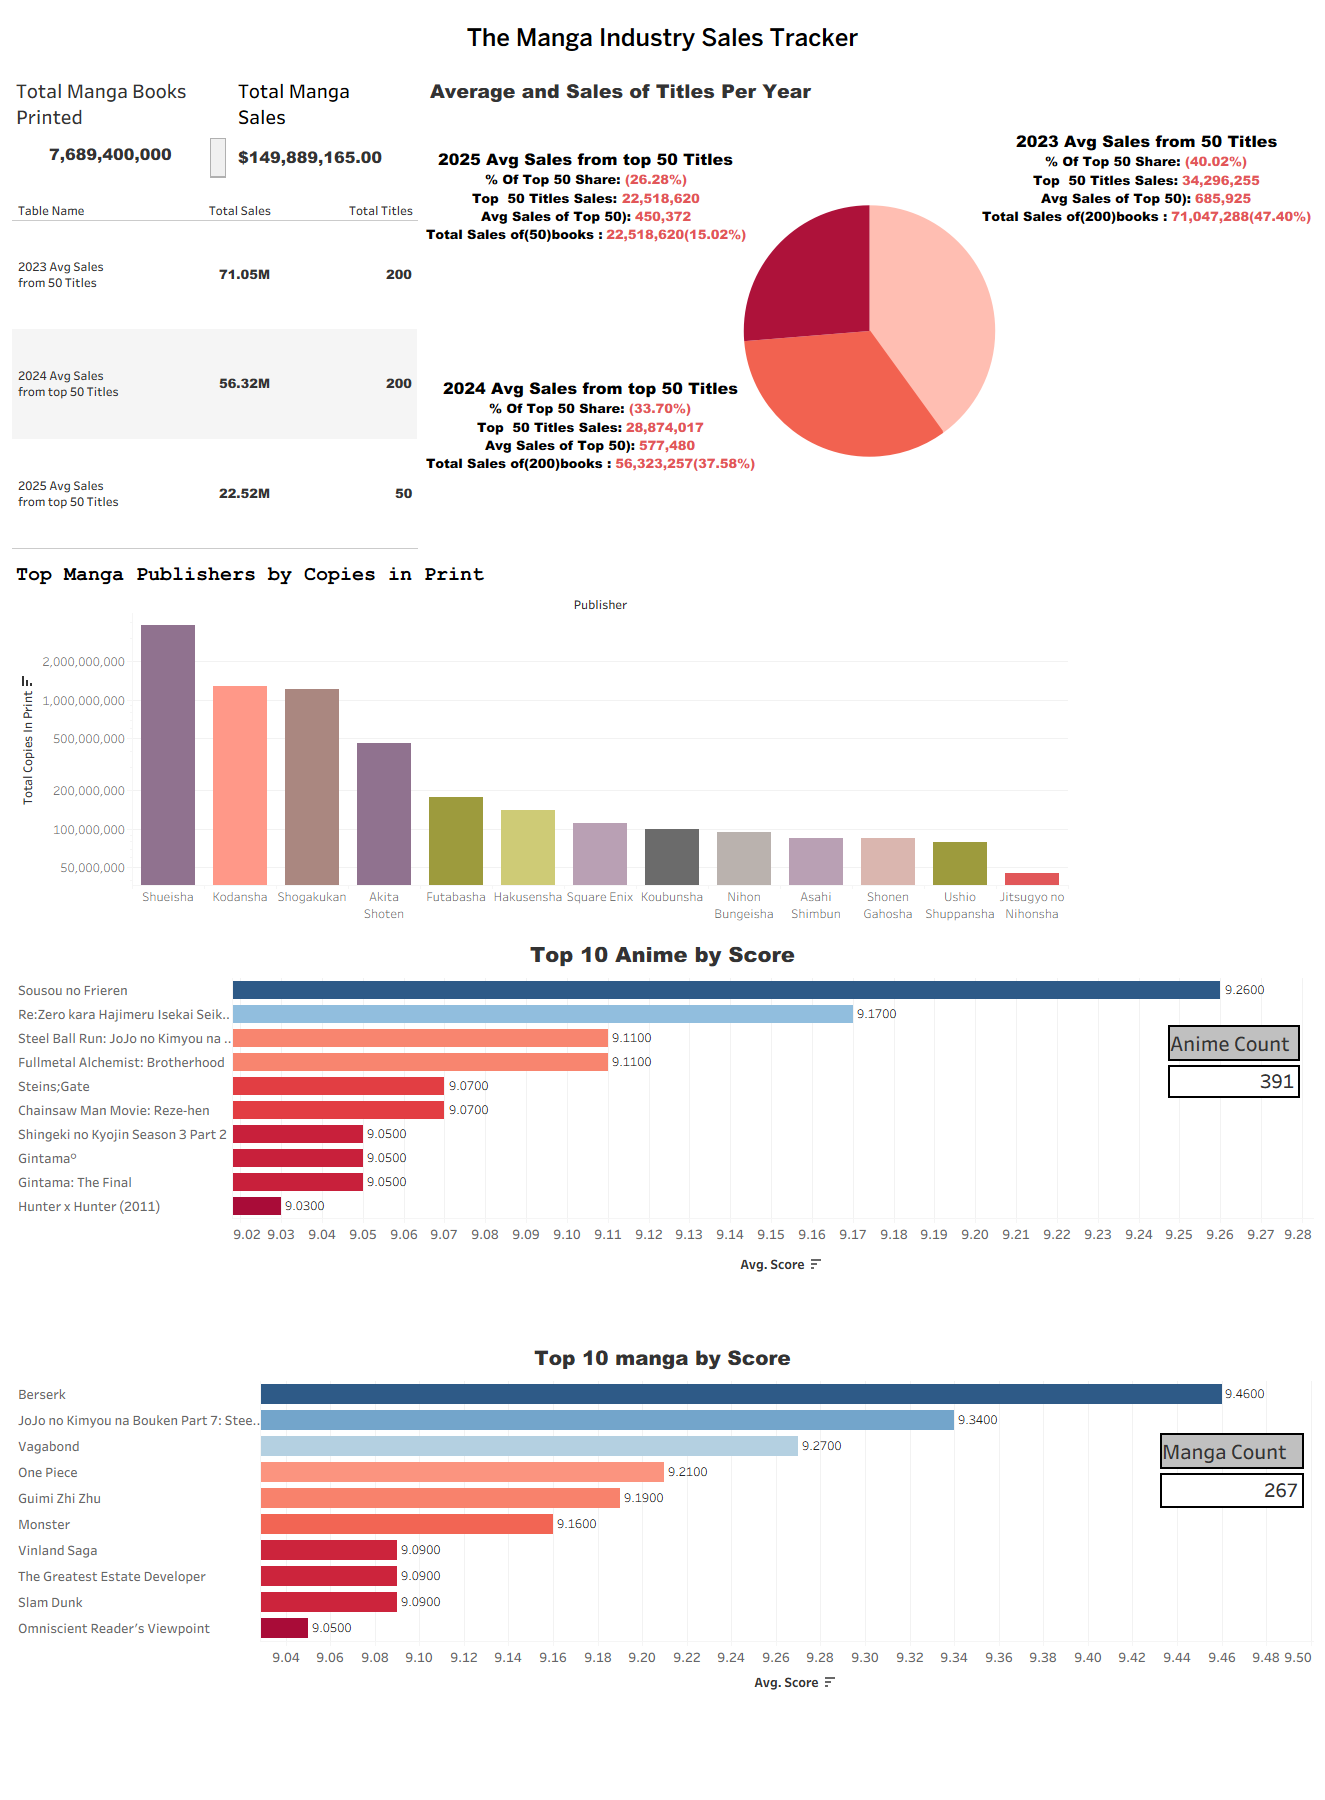

This screenshot's page, from the dashboard's own definition file:
{"tool":"tableau","page":{"name":"Dashboard 1","canvas":[1325,1800],"ordinal":0},"visuals":[{"type":"title","box":[8,8,1309,59]},{"type":"worksheet","title":"Sheet 10","mark":"Automatic","box":[8,67,222,113.8]},{"type":"worksheet","title":"Sheet 15","mark":"Automatic","box":[230,67,192,113.8]},{"type":"worksheet","title":"Sheet 9","mark":"Pie","box":[422,67,895,485.5]},{"type":"worksheet","title":"Sheet 14","mark":"Text","rows":["Table Name"],"box":[8,180.8,414,371.8]},{"type":"worksheet","title":"Sheet 11","mark":"Automatic","rows":["Total_Copies_In_Print"],"cols":["Publisher"],"box":[8,552.5,1309,376.5]},{"type":"worksheet","title":"Sheet 13","mark":"Automatic","rows":["Title (master_anime_warehouse)"],"cols":["Score"],"box":[8,929,1309,404]},{"type":"worksheet","title":"Sheet 16","mark":"Automatic","box":[1167,1025,133,73]},{"type":"worksheet","title":"Sheet 12","mark":"Automatic","rows":["Title (master_manga_warehouse)"],"cols":["Score (master_manga_warehouse)"],"box":[8,1333,1309,459]},{"type":"worksheet","title":"Sheet 16 (2)","mark":"Automatic","box":[1159,1433,145,75]}]}

Visuals, with their boxes in screenshot pixels (x1, y1, x2, y2), scaled from the page's 1325x1800 canvas onto the 1325x1800 screenshot:
title: (8,8,1317,67)
"Sheet 10" worksheet: (8,67,230,181)
"Sheet 15" worksheet: (230,67,422,181)
"Sheet 9" worksheet (Pie marks): (422,67,1317,552)
"Sheet 14" worksheet (Text marks): (8,181,422,553)
"Sheet 11" worksheet: (8,552,1317,929)
"Sheet 13" worksheet: (8,929,1317,1333)
"Sheet 16" worksheet: (1167,1025,1300,1098)
"Sheet 12" worksheet: (8,1333,1317,1792)
"Sheet 16 (2)" worksheet: (1159,1433,1304,1508)
